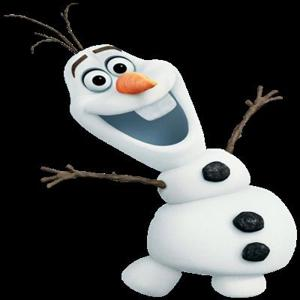olaf: (8, 8, 298, 295)
